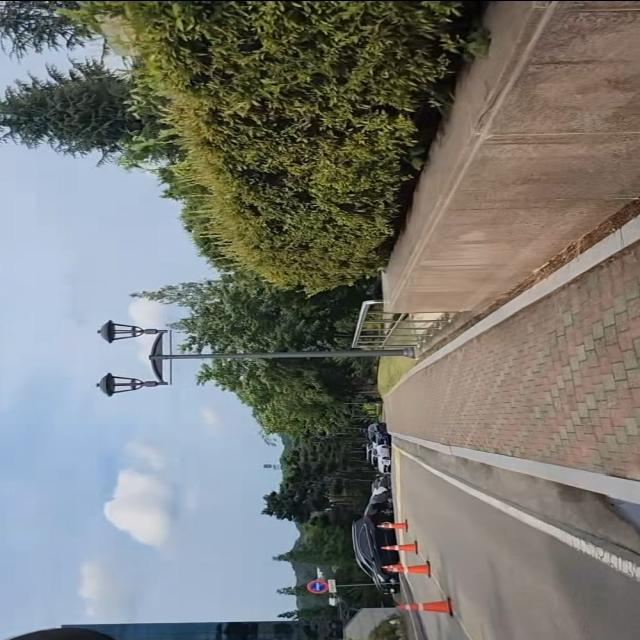obstacle: (90, 316, 424, 395), (392, 593, 455, 622), (376, 557, 436, 580)
road: (396, 436, 640, 640)
sidewalk: (386, 208, 640, 496)
